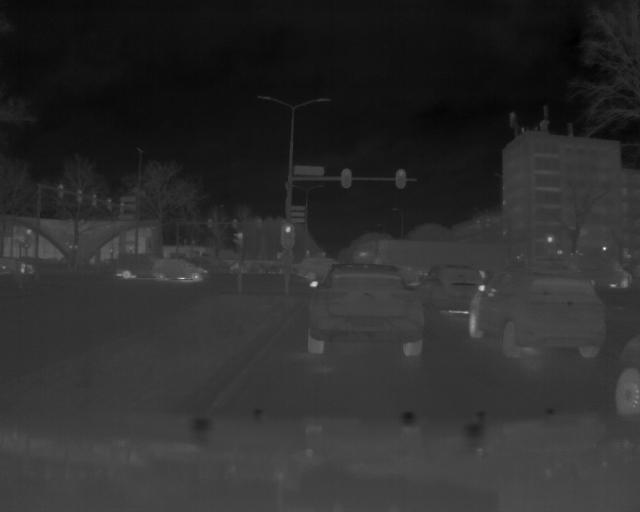car: (467, 271, 608, 360), (310, 261, 425, 363), (152, 258, 207, 283)
